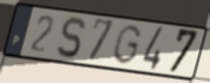2: (28, 14, 56, 55)
4: (141, 25, 165, 73)
7: (168, 27, 201, 75), (87, 16, 116, 64)
G: (110, 23, 143, 67)
S: (55, 15, 87, 60)
